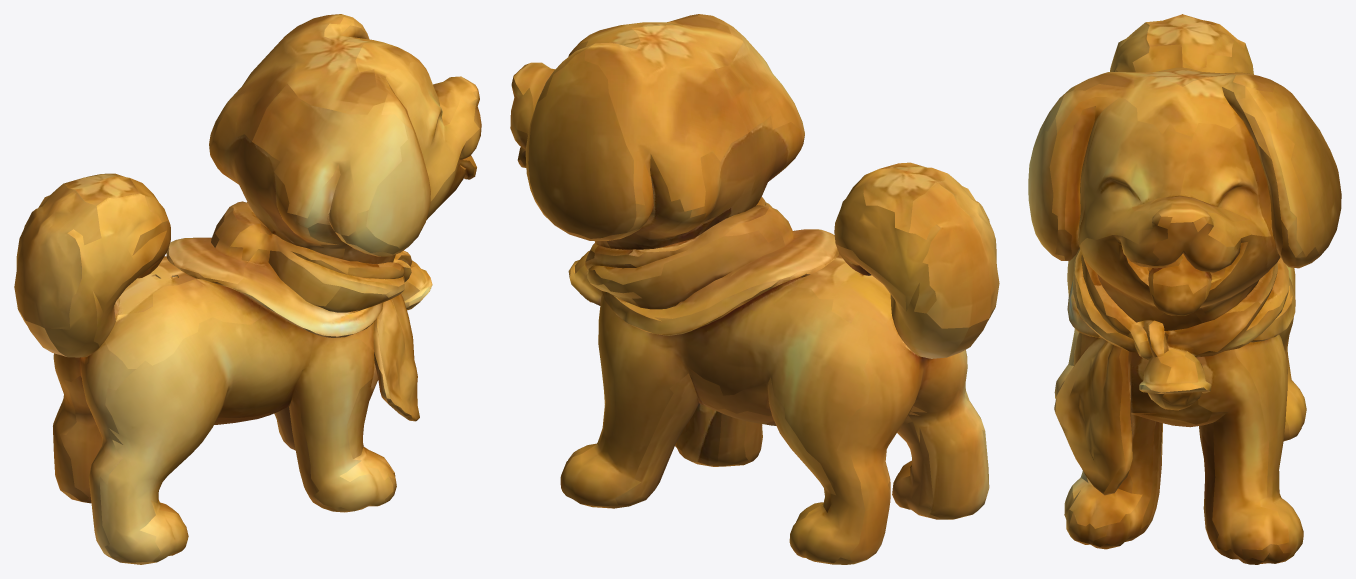
The model's file is dog-gold.glb.
3 views of the same model, side by side, from view 1: azimuth 30°, elevation 25°; view 2: azimuth 150°, elevation 25°; view 3: azimuth 270°, elevation 25° (orthographic). The views are drawn at different scales.
Visible parts, largest first — view 1: geometry_0; view 2: geometry_0; view 3: geometry_0.
Boxes of the visible parts, x1,y1,x2,y2 form: geometry_0: (14, 14, 481, 564); geometry_0: (510, 14, 999, 564); geometry_0: (1028, 14, 1341, 564).
Bounding box in the file's own units: 0.12 × 0.1087 × 0.0647.
1 material, 1 textured.
